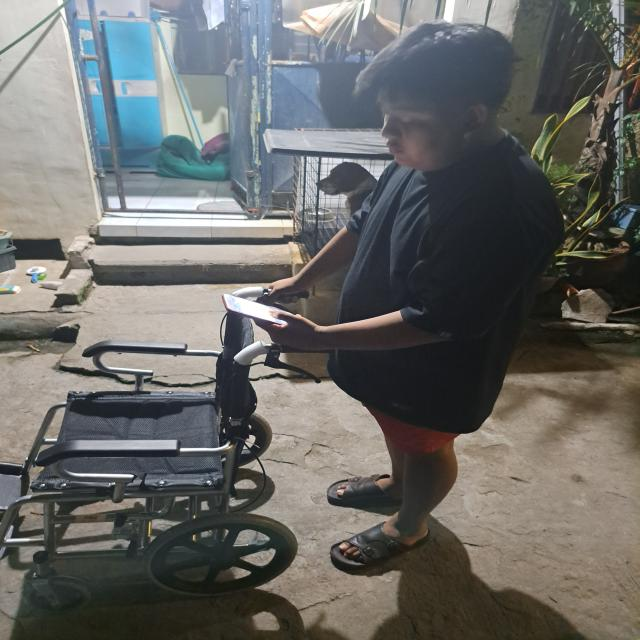wheelchairs: (0, 283, 306, 606)
